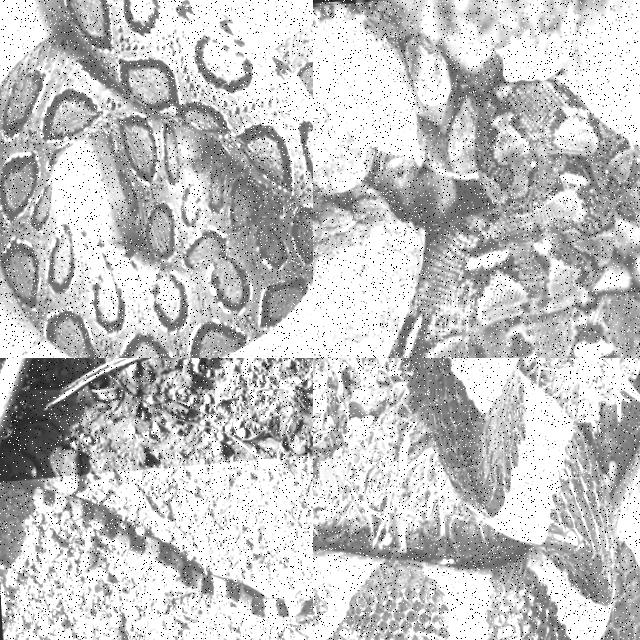Bungarus fasciatus: (313, 358, 639, 639), (0, 481, 312, 617)
Daboia siamensis: (0, 0, 312, 357)
Malayopython reticulatus: (391, 75, 639, 357)
